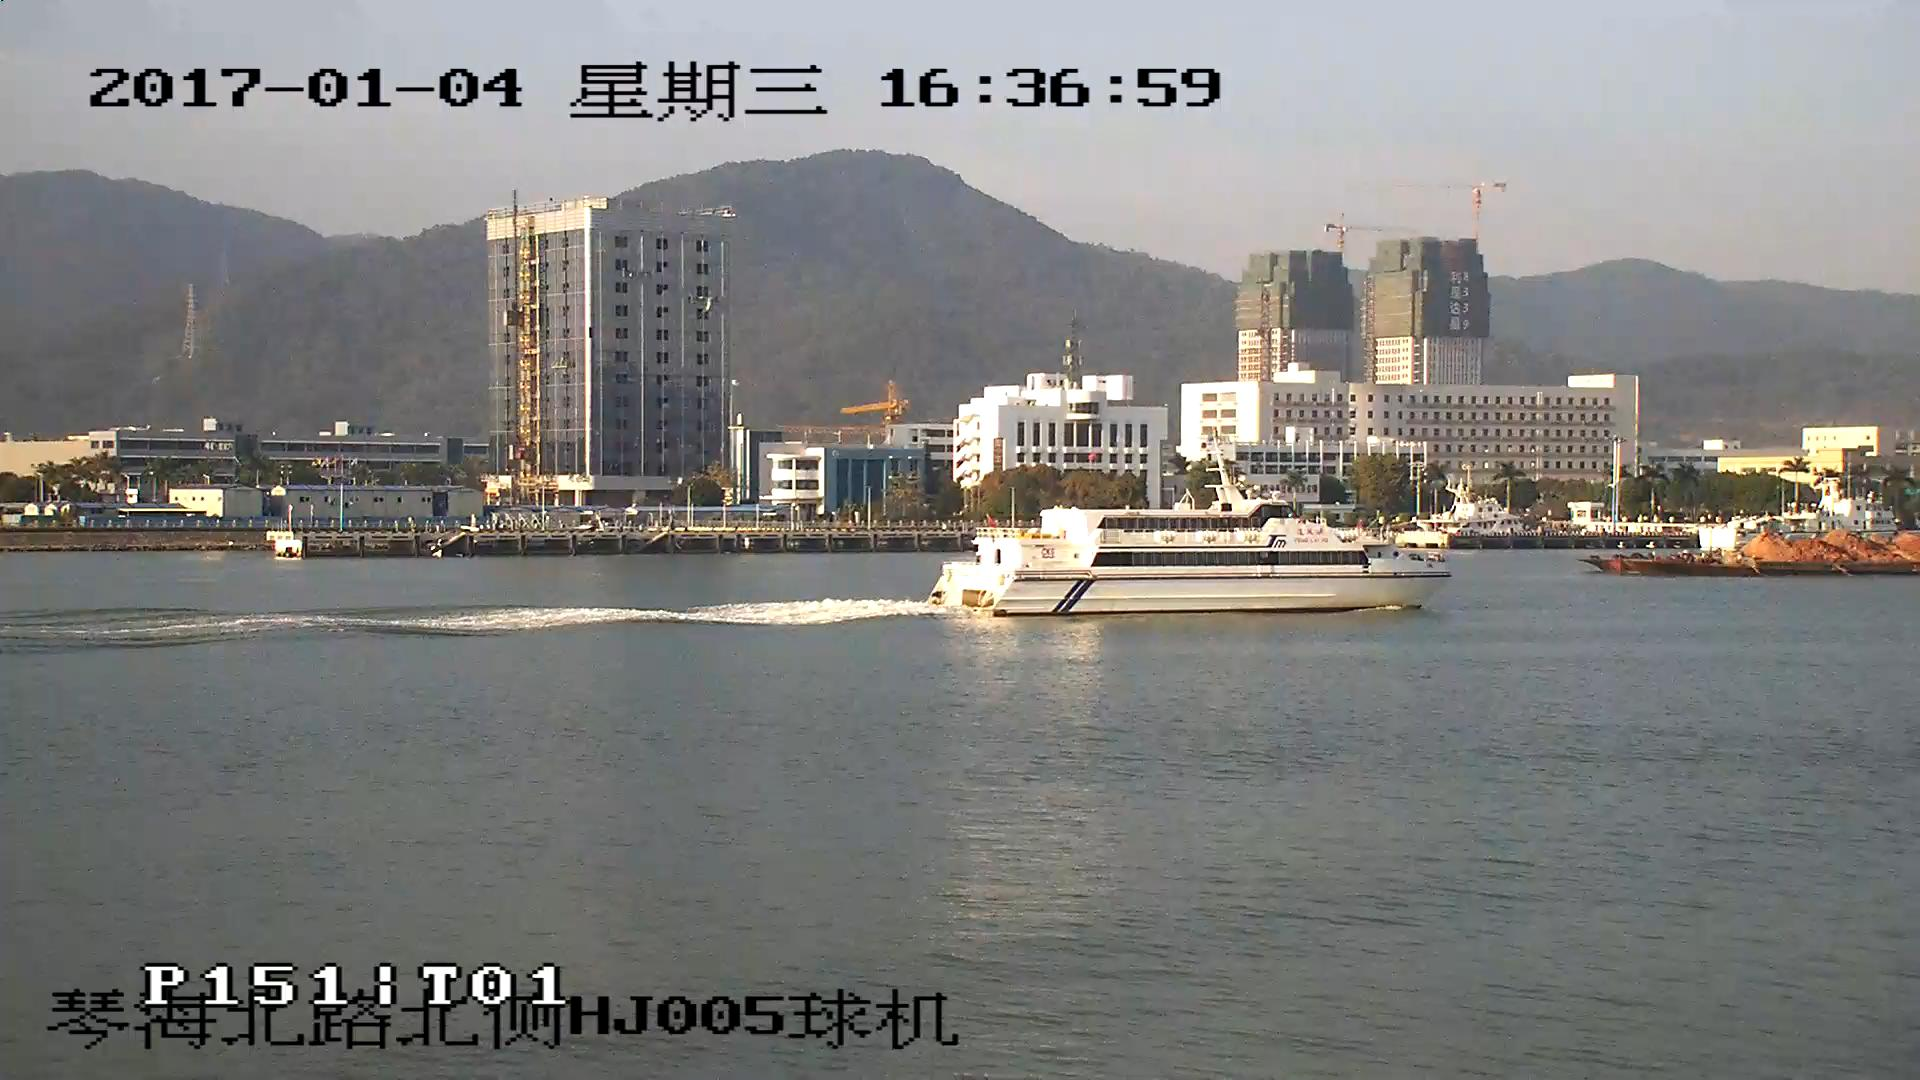ore carrier: (1596, 522, 1920, 580)
passenger ship: (932, 436, 1452, 616)
